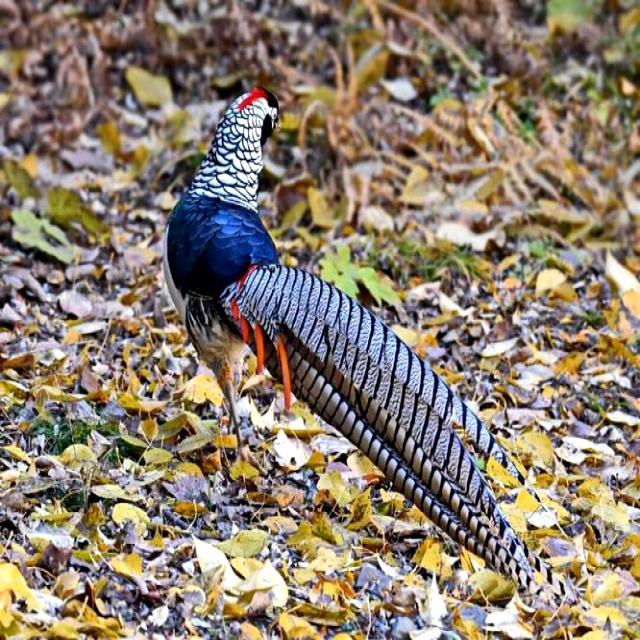Chrysolophus amherstiae: (234, 265, 529, 584)
